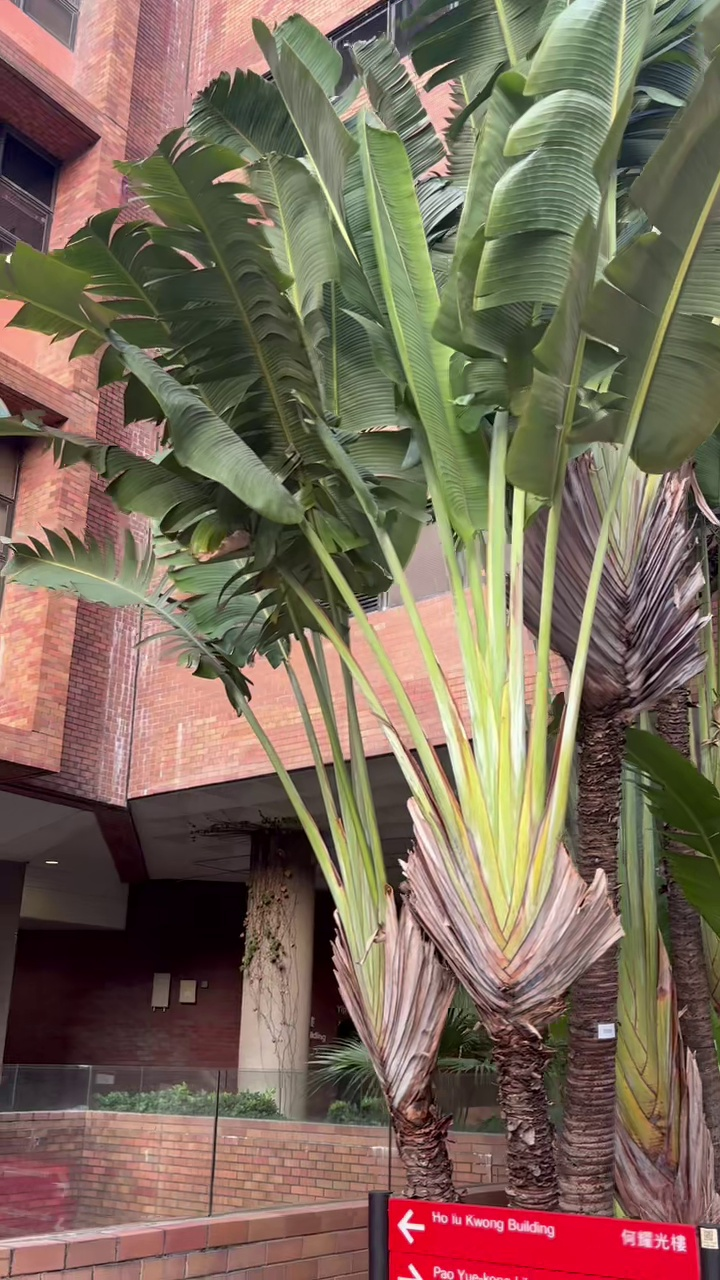Travellers-tree: (0, 0, 719, 1207)
